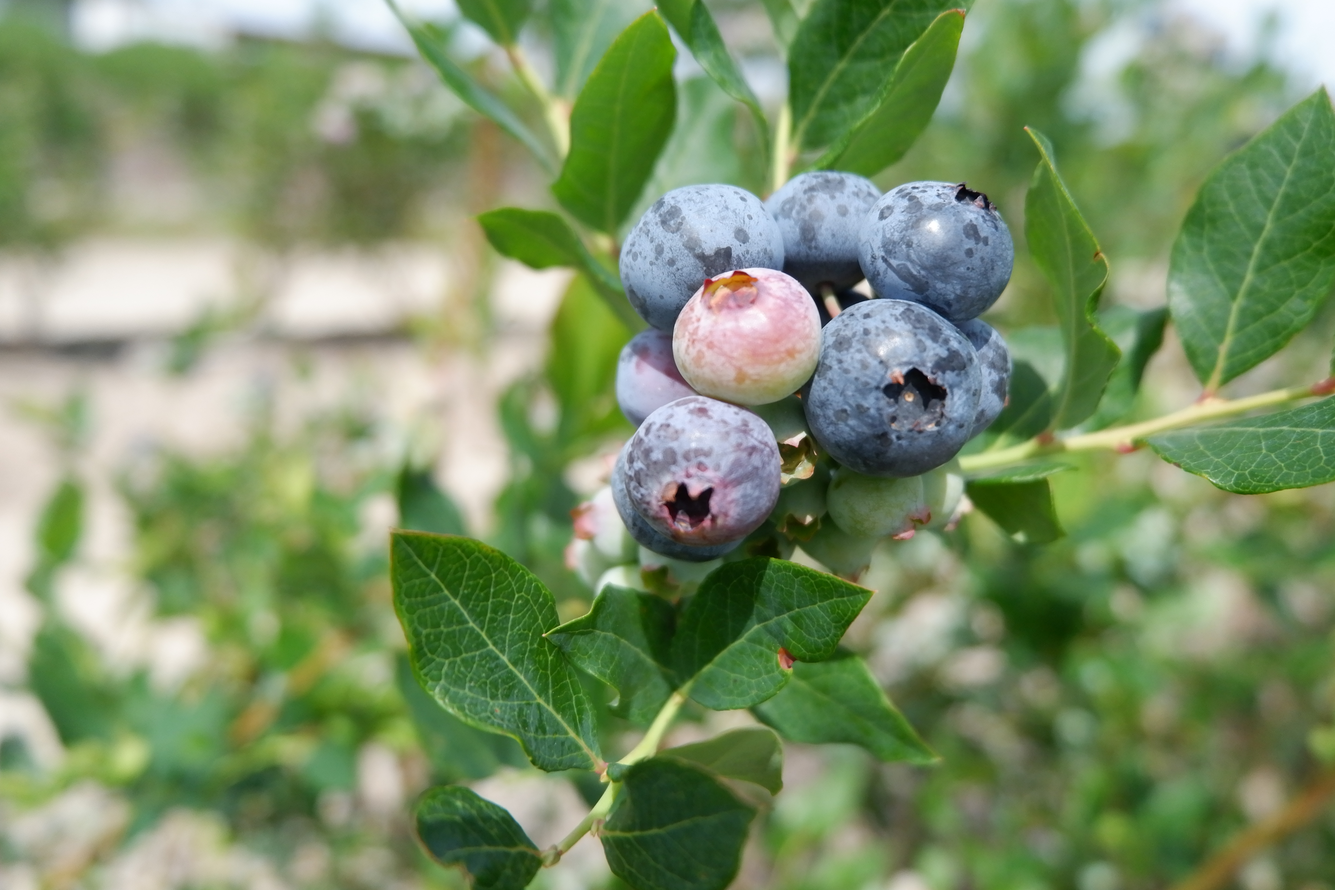Immature: (678, 270, 819, 402), (741, 394, 821, 487), (831, 468, 932, 539), (797, 510, 885, 582), (767, 461, 834, 541), (569, 489, 636, 566), (923, 458, 970, 530)
Mature: (810, 303, 981, 474), (623, 187, 784, 328), (623, 401, 777, 548), (860, 184, 1012, 318), (611, 439, 741, 564), (768, 174, 877, 293), (617, 332, 693, 422), (962, 321, 1010, 440)
